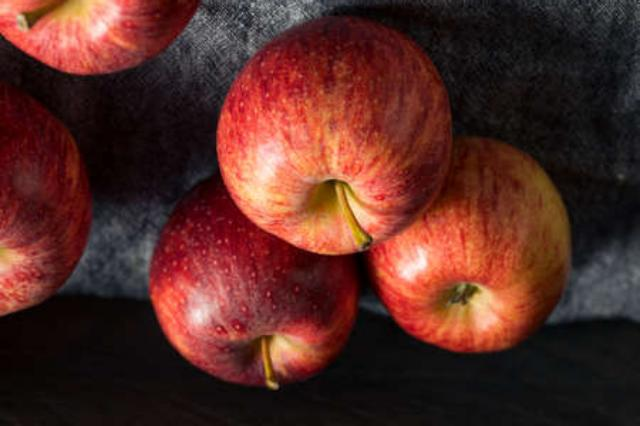Apples: (217, 17, 451, 255), (376, 141, 570, 354), (152, 192, 356, 388), (0, 83, 92, 319), (0, 0, 203, 75)
